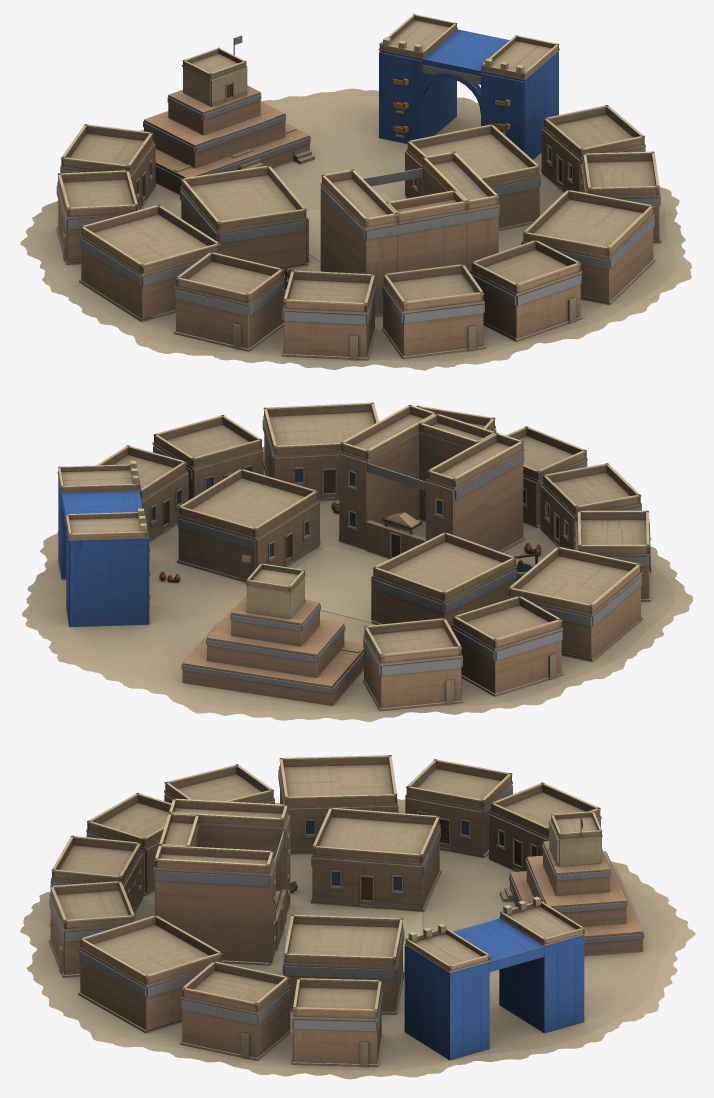
The model's file is bronze-town-medium-a-levant.glb.
3 renders of one model, top to bottom at view 1: azimuth 30°, elevation 25°; view 2: azimuth 150°, elevation 25°; view 3: azimuth 270°, elevation 25°, orthographic.
Visible parts, largest first — view 1: LOD0; view 2: LOD0; view 3: LOD0.
Boxes of the visible parts, left/top/right/bottom form: LOD0: left=20, top=14, right=691, bottom=370; LOD0: left=22, top=402, right=693, bottom=721; LOD0: left=20, top=755, right=695, bottom=1079.
Size of what is drawn, in the model's own units: 5.93 by 1.14 by 5.97.
3 materials, 3 textured.
